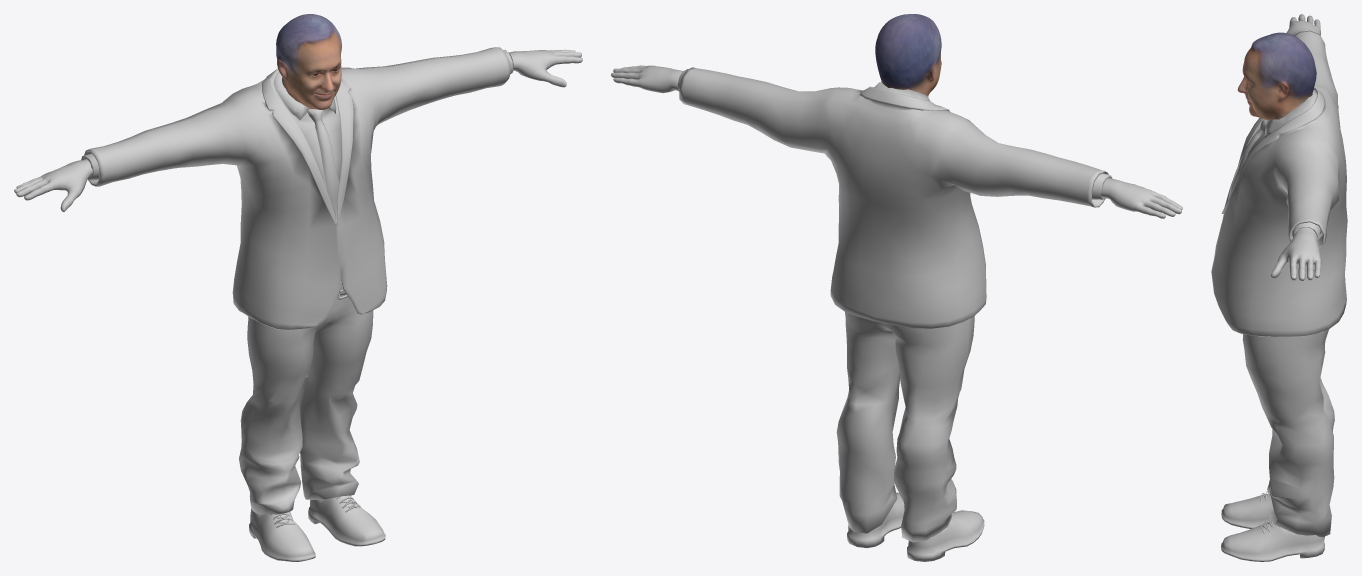
The model's file is bibi.fbx.
3 views of the same model, side by side, from view 1: azimuth 30°, elevation 25°; view 2: azimuth 150°, elevation 25°; view 3: azimuth 270°, elevation 25° (orthographic). The views are drawn at different scales.
Parts seen in each view (by area): view 1: Tops, Bottoms, default001, Shoes, Body; view 2: Tops, Bottoms, default001, Body, Shoes; view 3: Tops, Bottoms, default001, Shoes, Body.
Part boxes in pixels (x1,y1,x2,y2): Tops: [81, 47, 513, 329]; Bottoms: [239, 277, 373, 514]; default001: [276, 14, 341, 115]; Shoes: [249, 495, 385, 561]; Body: [14, 49, 582, 211]; Tops: [677, 67, 1112, 328]; Bottoms: [836, 312, 974, 542]; default001: [875, 14, 941, 96]; Body: [611, 65, 1182, 218]; Shoes: [847, 492, 984, 561]; Tops: [1211, 30, 1347, 336]; Bottoms: [1242, 329, 1334, 537]; default001: [1237, 32, 1316, 120]; Shoes: [1221, 491, 1324, 561]; Body: [1271, 14, 1321, 280].
Size of the model in its own units: 19407 by 16993 by 4191.
Materials: 5 (1 with a texture image).
